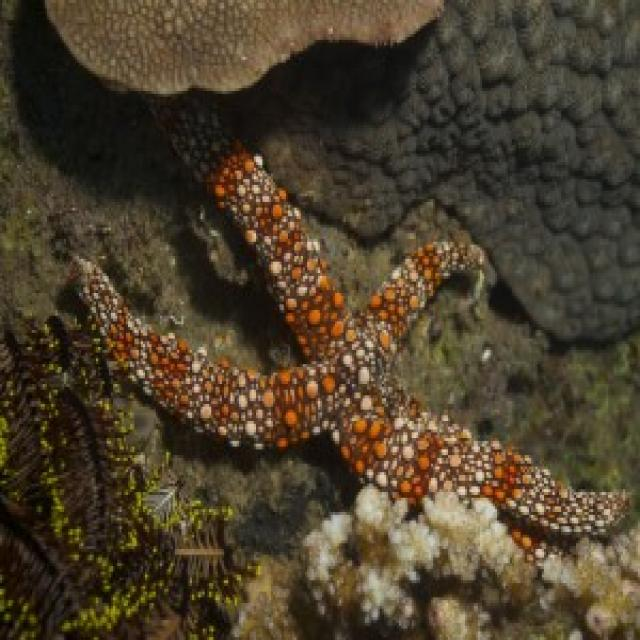Starfish: (65, 88, 635, 540)
